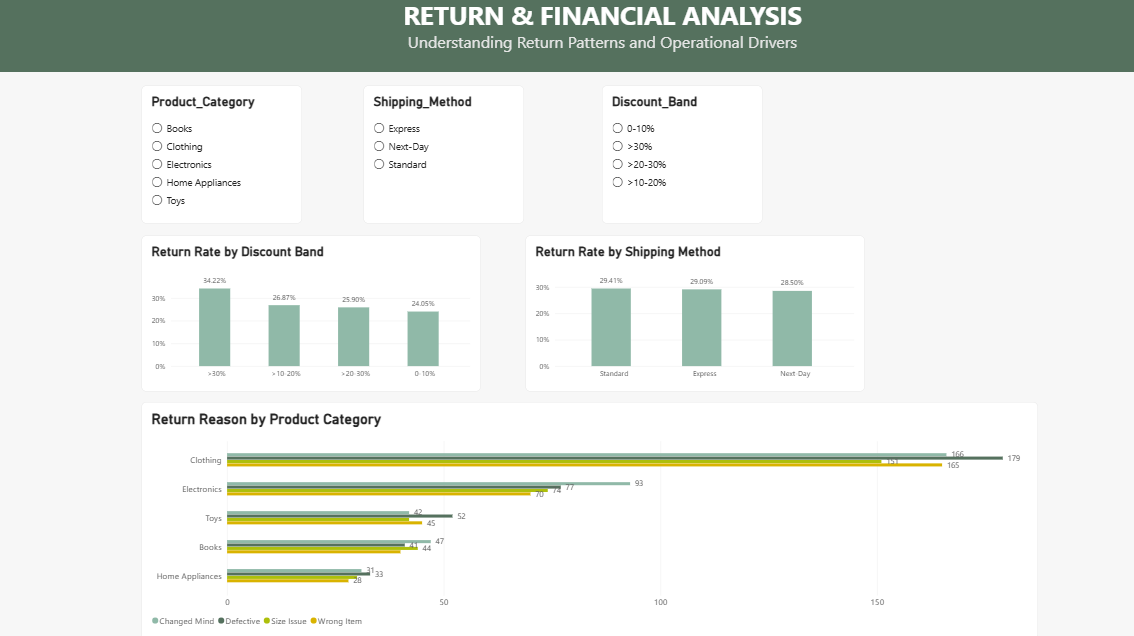

Layout of this report page (visuals, bound fields, positions):
{"tool":"powerbi","page":{"name":"Page 2","canvas":[1920,1080],"ordinal":1},"visuals":[{"type":"clusteredColumnChart","title":"Return Rate by Discount Band","fields":{"Category":["Raw.Discount_Band"],"Y":["Raw.Return Rate"]},"box":[247.5,397.5,565,260],"z":0},{"type":"clusteredColumnChart","title":"Return Rate by Shipping Method","fields":{"Category":["Raw.Shipping_Method"],"Y":["Raw.Return Rate"]},"box":[886.7,396.7,565,260],"z":1000},{"type":"clusteredBarChart","title":"Return Reason by Product Category","fields":{"Category":["Raw.Product_Category"],"Series":["Raw.Return_Reason"],"Y":["CountNonNull(Raw.Order_ID)"]},"box":[248.3,675,1493.8,396.2],"z":2000},{"type":"listSlicer","fields":{"Values":["Raw.Product_Category"]},"box":[248.3,146.7,267.5,230],"z":3000},{"type":"listSlicer","fields":{"Values":["Raw.Shipping_Method"]},"box":[618.3,146.7,267,230],"z":4000},{"type":"listSlicer","fields":{"Values":["Raw.Discount_Band"]},"box":[1015,146.7,267,230],"z":5000},{"type":"shape","box":[0,0,1920,125],"z":5001},{"type":"textbox","box":[610,0,811.4,147.1],"z":5002}]}

Visuals, with their boxes in screenshot pixels (x1, y1, x2, y2), scaled from the page's 1920x1080 canvas onto the 1134x636 screenshot:
"Return Rate by Discount Band" clusteredColumnChart: Rect(146, 234, 480, 387)
"Return Rate by Shipping Method" clusteredColumnChart: Rect(524, 234, 857, 387)
"Return Reason by Product Category" clusteredBarChart: Rect(147, 398, 1029, 631)
listSlicer - Raw.Product_Category: Rect(147, 86, 305, 222)
listSlicer - Raw.Shipping_Method: Rect(365, 86, 523, 222)
listSlicer - Raw.Discount_Band: Rect(599, 86, 757, 222)
shape: Rect(0, 0, 1133, 74)
textbox: Rect(360, 0, 840, 87)
